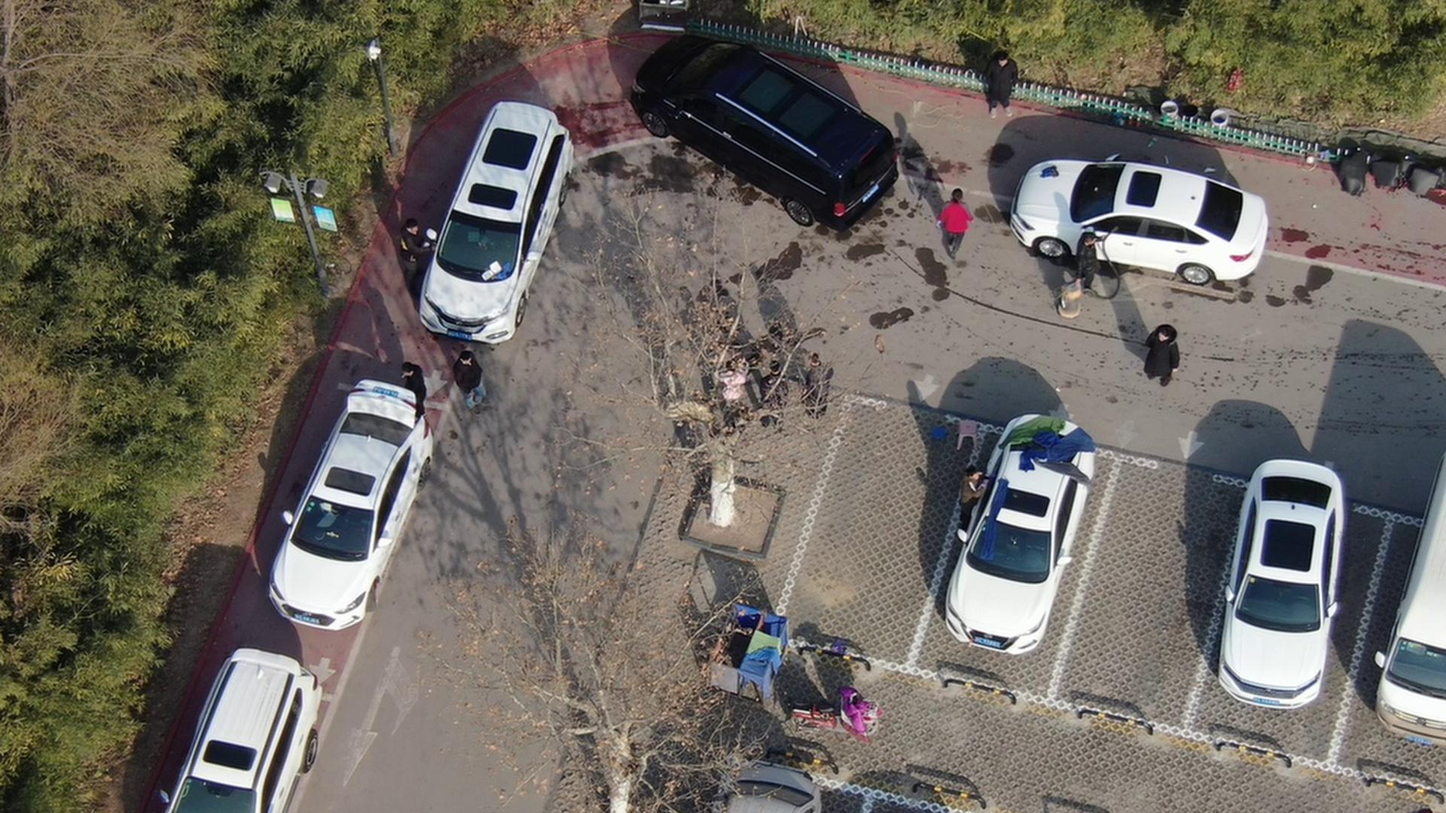human: (938, 184, 989, 263), (1142, 316, 1188, 392), (1066, 221, 1108, 304), (991, 43, 1033, 120), (801, 351, 840, 429), (760, 354, 797, 434), (459, 343, 495, 413), (404, 356, 432, 425)
